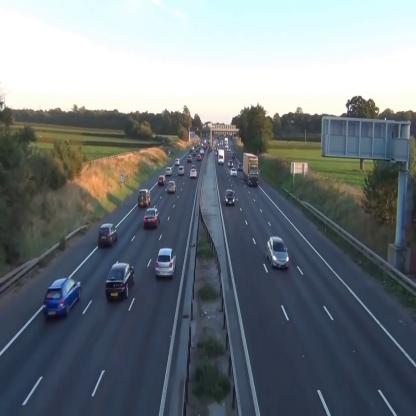car: (43, 278, 81, 318), (106, 262, 136, 303), (266, 236, 289, 270), (154, 248, 176, 278), (98, 224, 117, 246), (144, 206, 160, 228), (138, 190, 150, 208), (226, 191, 235, 205), (167, 181, 176, 193), (158, 175, 166, 186), (190, 168, 197, 178), (230, 168, 236, 178), (178, 166, 184, 175), (166, 167, 172, 175), (174, 158, 180, 165), (187, 154, 192, 162), (238, 162, 243, 170), (229, 159, 233, 167), (197, 154, 200, 160)
lorry: (243, 152, 259, 187), (218, 149, 224, 164)
